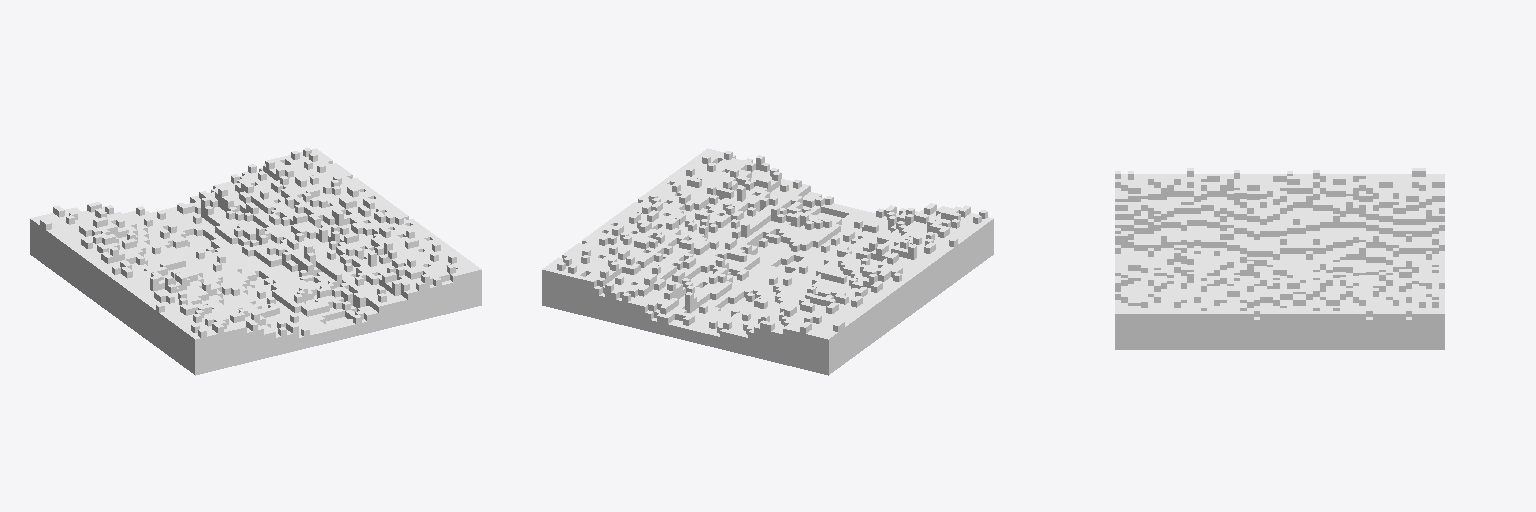
Rendered from Road_Simple.obj.
3 renders of one model, left to right at view 1: azimuth 30°, elevation 25°; view 2: azimuth 150°, elevation 25°; view 3: azimuth 270°, elevation 25°, orthographic.
Parts seen in each view (by area): view 1: object 1; view 2: object 1; view 3: object 1.
Boxes of the visible parts, x1,y1,x2,y2 form: object 1: [30, 148, 481, 375]; object 1: [542, 148, 993, 375]; object 1: [1115, 168, 1444, 349].
Size of the model in its own units: 5 by 0.8 by 5.